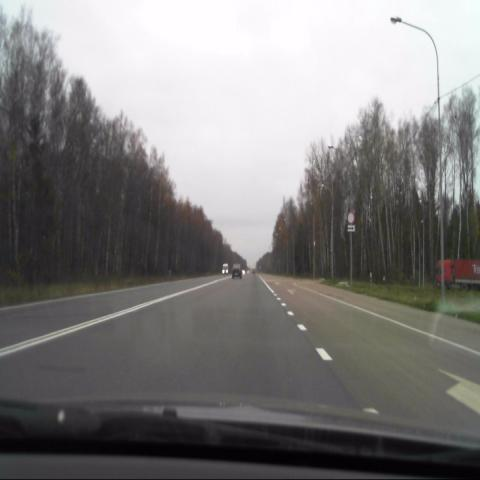3_2: (347, 212, 354, 224)
